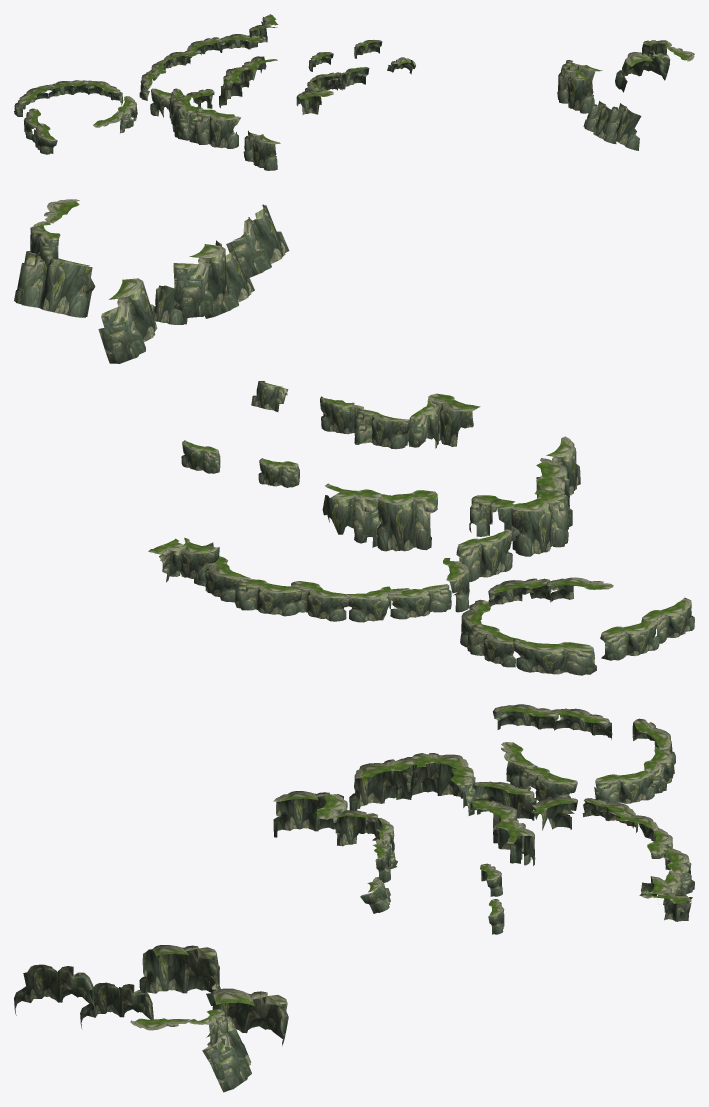
The model's file is village_01_stone_01.FBX.
The picture shows the model from 3 angles, top to bottom: view 1: azimuth 30°, elevation 25°; view 2: azimuth 150°, elevation 25°; view 3: azimuth 270°, elevation 25°; orthographic projection. The views are drawn at different scales.
Parts seen in each view (by area): view 1: stone; view 2: stone; view 3: stone.
Boxes of the visible parts, left/top/right/bottom form: stone: left=14, top=14, right=694, bottom=170; stone: left=14, top=199, right=694, bottom=675; stone: left=14, top=704, right=694, bottom=1092.
Size of the model in its own units: 281 by 31.5 by 206.
